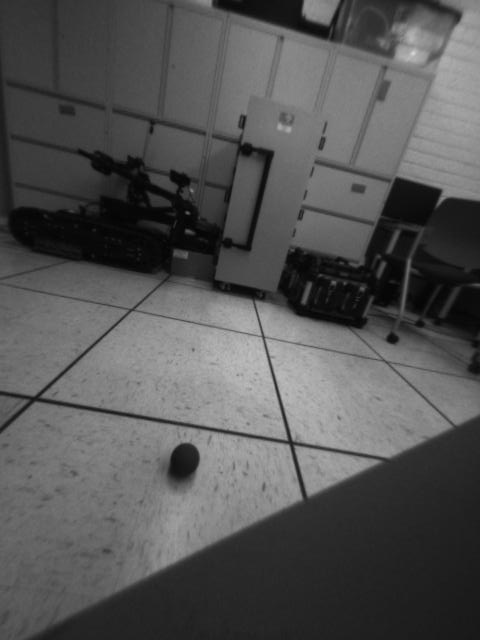dogtoy: (159, 431, 206, 486)
